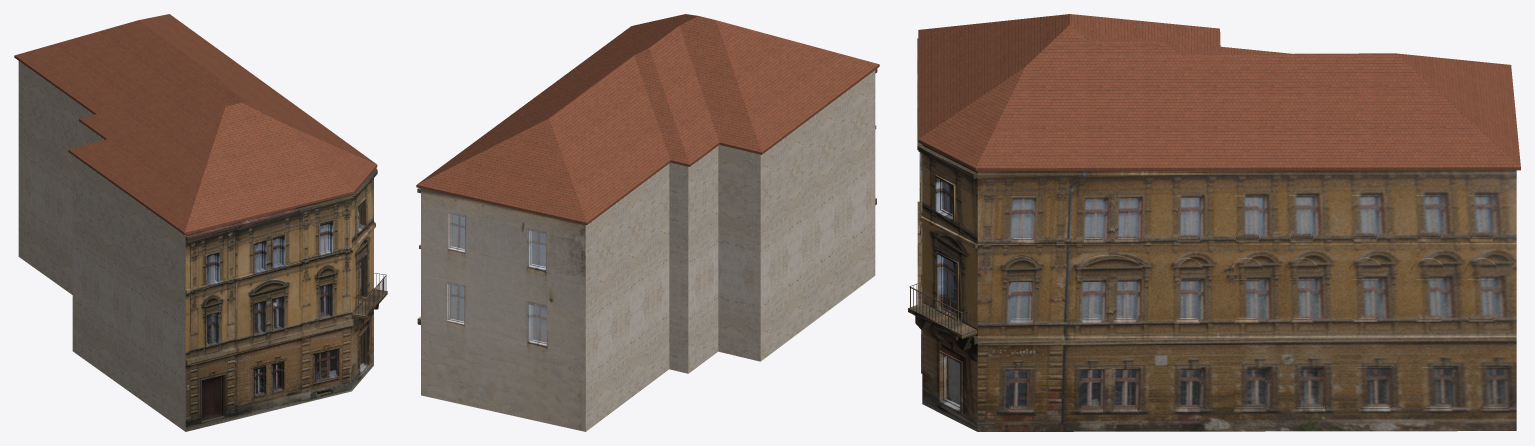
3 renders of one model, left to right at view 1: azimuth 30°, elevation 25°; view 2: azimuth 150°, elevation 25°; view 3: azimuth 270°, elevation 25°, orthographic. The views are drawn at different scales.
Visible parts, largest first — view 1: CP_1045_street, CP_1045_GIS_ROOF_0, CP_1045_chamfer; view 2: CP_1045_street, CP_1045_GIS_ROOF_0, CP_1045_rear; view 3: CP_1045_alley, CP_1045_GIS_ROOF_0, CP_1045_chamfer, CP_1045_street.
Boxes of the visible parts, x1,y1,x2,y2 form: CP_1045_street: (18,61,353,431); CP_1045_GIS_ROOF_0: (14,14,377,234); CP_1045_chamfer: (351,170,387,390); CP_1045_street: (421,69,877,431); CP_1045_GIS_ROOF_0: (416,14,879,224); CP_1045_rear: (421,188,585,362); CP_1045_alley: (977,170,1516,431); CP_1045_GIS_ROOF_0: (918,14,1520,171); CP_1045_chamfer: (908,144,977,431); CP_1045_street: (917,38,922,373).
Bounding box in the file's own units: 14.78 × 16.63 × 26.78.
Materials: 12 (12 with a texture image).
